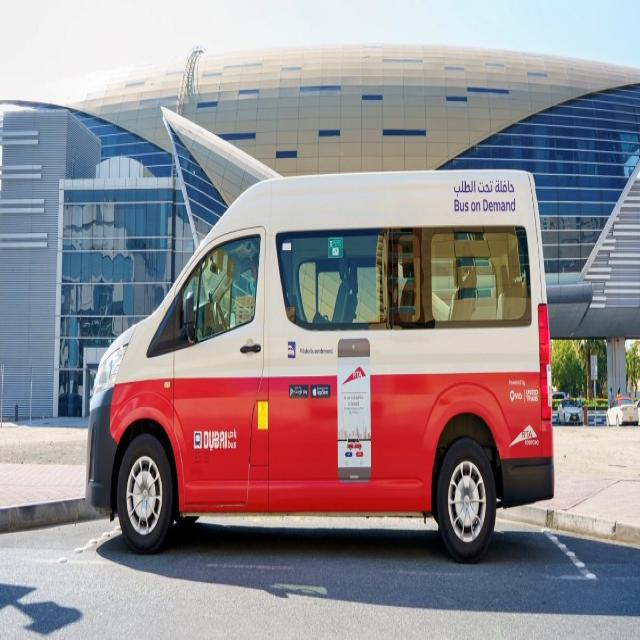car: (84, 167, 556, 559)
